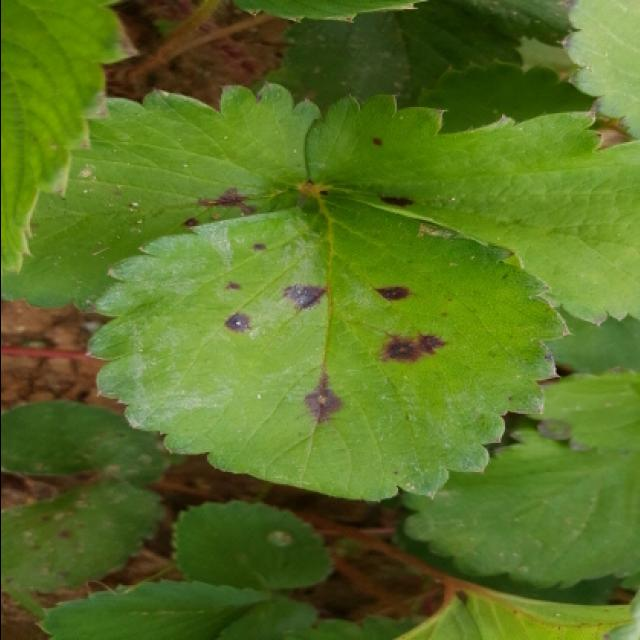Leaf Spot: (81, 194, 572, 501), (302, 91, 640, 329), (2, 81, 319, 313), (2, 477, 161, 595)
